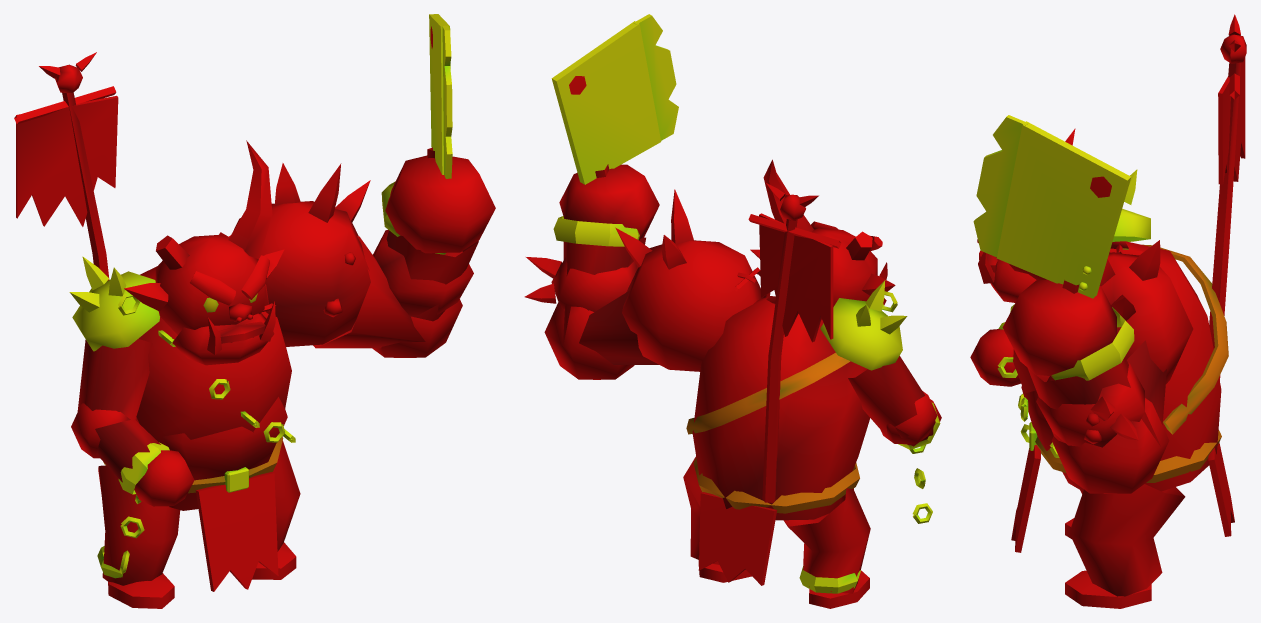
File: OrcMutant_LOD1.glb
3 views of the same model, side by side, from view 1: azimuth 30°, elevation 25°; view 2: azimuth 150°, elevation 25°; view 3: azimuth 270°, elevation 25° (orthographic). The views are drawn at different scales.
Visible parts, largest first — view 1: OrcMutant_LOD1; view 2: OrcMutant_LOD1; view 3: OrcMutant_LOD1.
Boxes of the visible parts, box(x1,y1,x2,y2) form: OrcMutant_LOD1: box(14, 14, 495, 608); OrcMutant_LOD1: box(524, 14, 941, 608); OrcMutant_LOD1: box(970, 14, 1246, 608).
Bounding box in the file's own units: 3.68 × 4.47 × 2.04.
